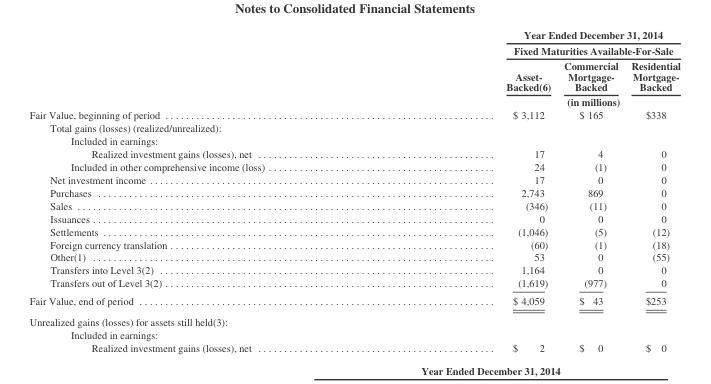table: (28, 28, 679, 353)
table column: (28, 28, 384, 353), (384, 28, 556, 353), (556, 28, 624, 353), (624, 28, 679, 353)
table column header: (28, 28, 679, 108)
table projected row header: (28, 311, 679, 328), (28, 121, 679, 134), (28, 134, 679, 147), (28, 328, 679, 340)
table row: (28, 57, 679, 94), (28, 28, 679, 57), (28, 291, 679, 311), (28, 311, 679, 328), (28, 276, 679, 291), (28, 94, 679, 108), (28, 108, 679, 121), (28, 121, 679, 134), (28, 134, 679, 147), (28, 147, 679, 160), (28, 172, 679, 185), (28, 185, 679, 198), (28, 198, 679, 211), (28, 211, 679, 224), (28, 224, 679, 237), (28, 237, 679, 250), (28, 250, 679, 263), (28, 263, 679, 276), (28, 340, 679, 353), (28, 160, 679, 172), (28, 328, 679, 340)
table spanning cell: (384, 28, 679, 57), (384, 94, 679, 108)
